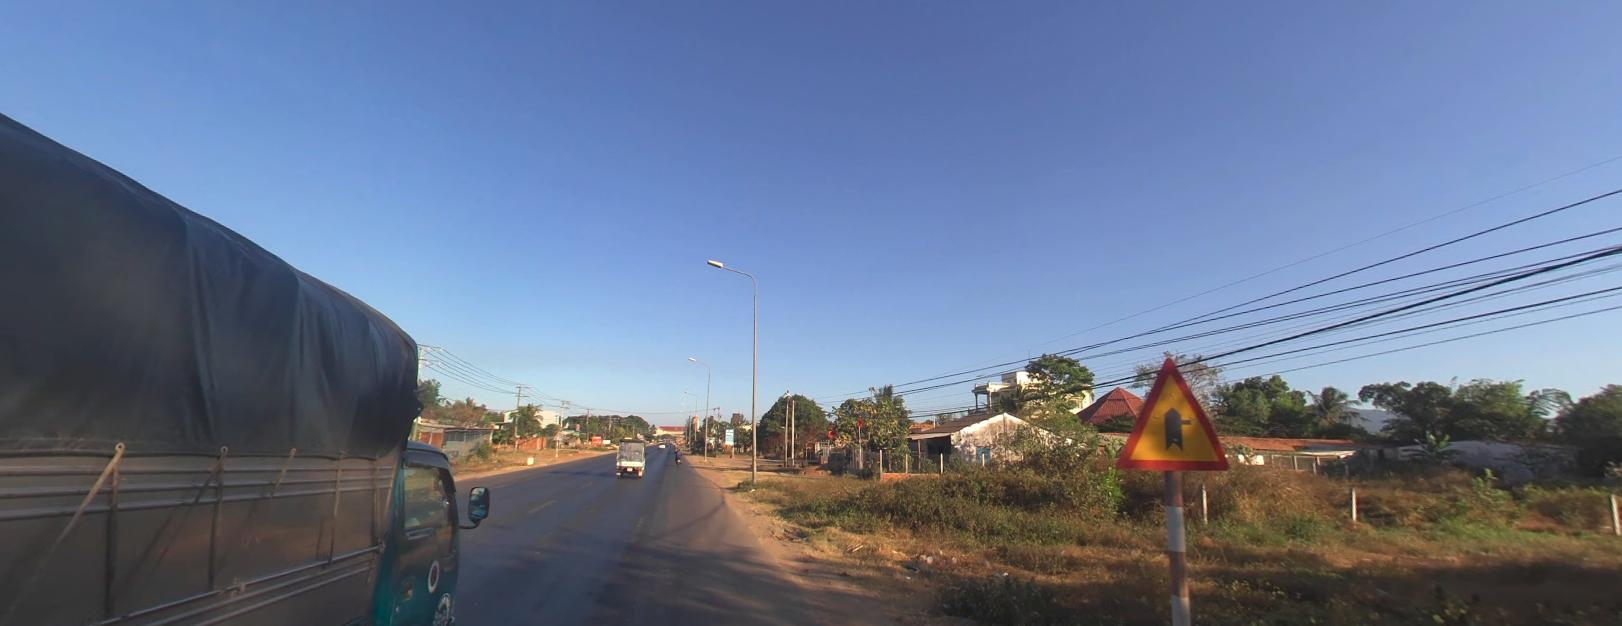Nguy hiem: (1115, 356, 1230, 469)
